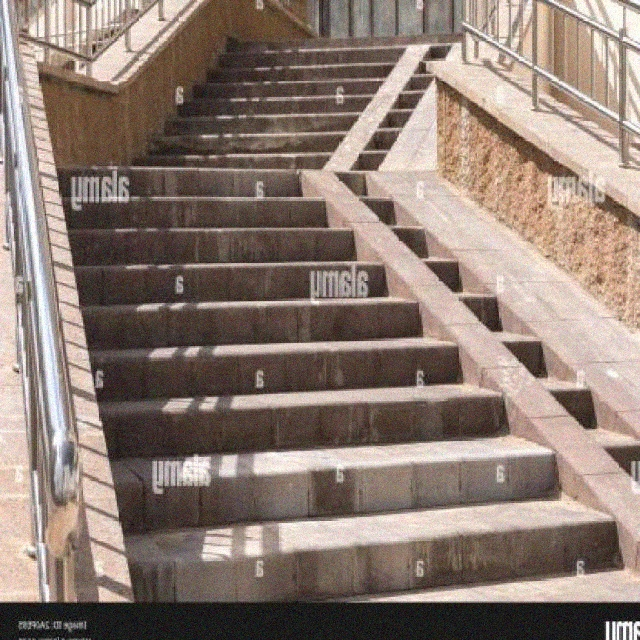stair: (18, 0, 640, 600)
